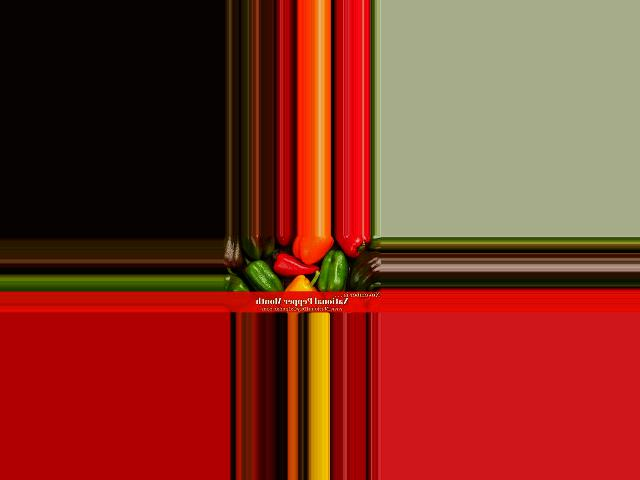bell_pepper: (349, 251, 380, 291)
